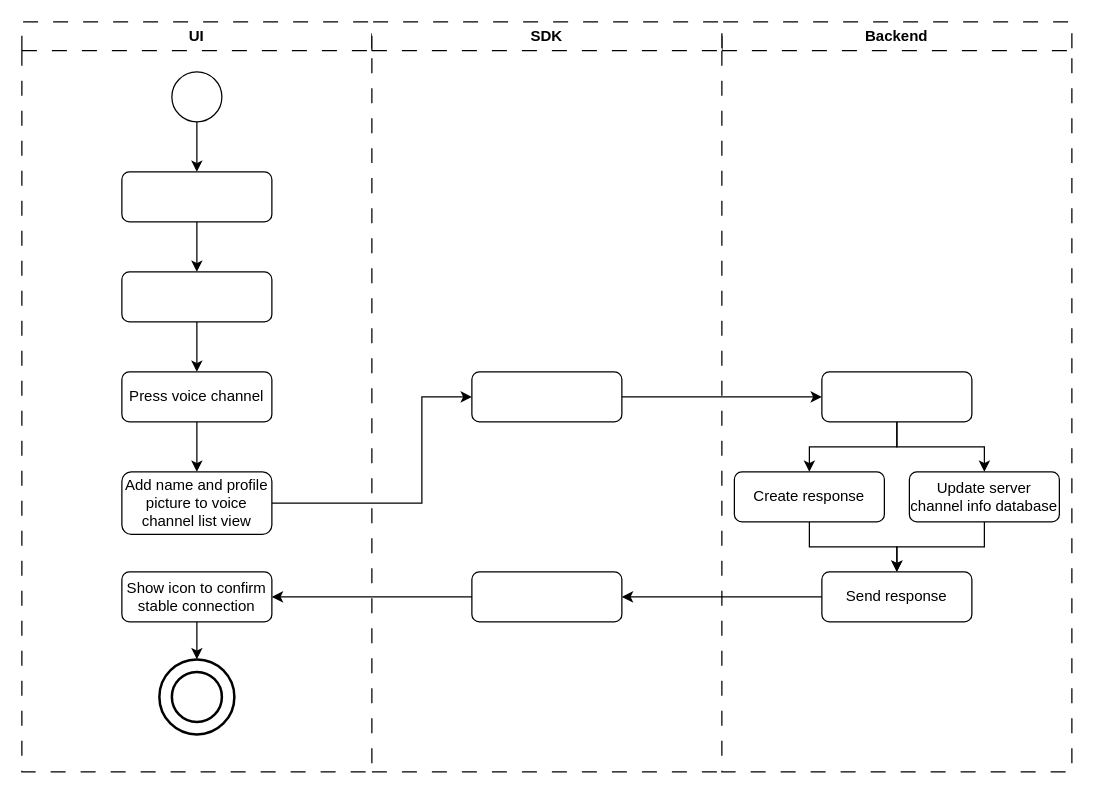
Image size: 1094x795. Some labels were removed from this diagram. Here are the shapes that lost their labels. From the top down, the box of each, then its label:
(121, 171, 272, 222): Select server
(121, 271, 272, 322): Open server channel list view
(471, 371, 622, 422): Create connection request
(821, 371, 972, 422): Receive request
(471, 571, 622, 622): Decode response
